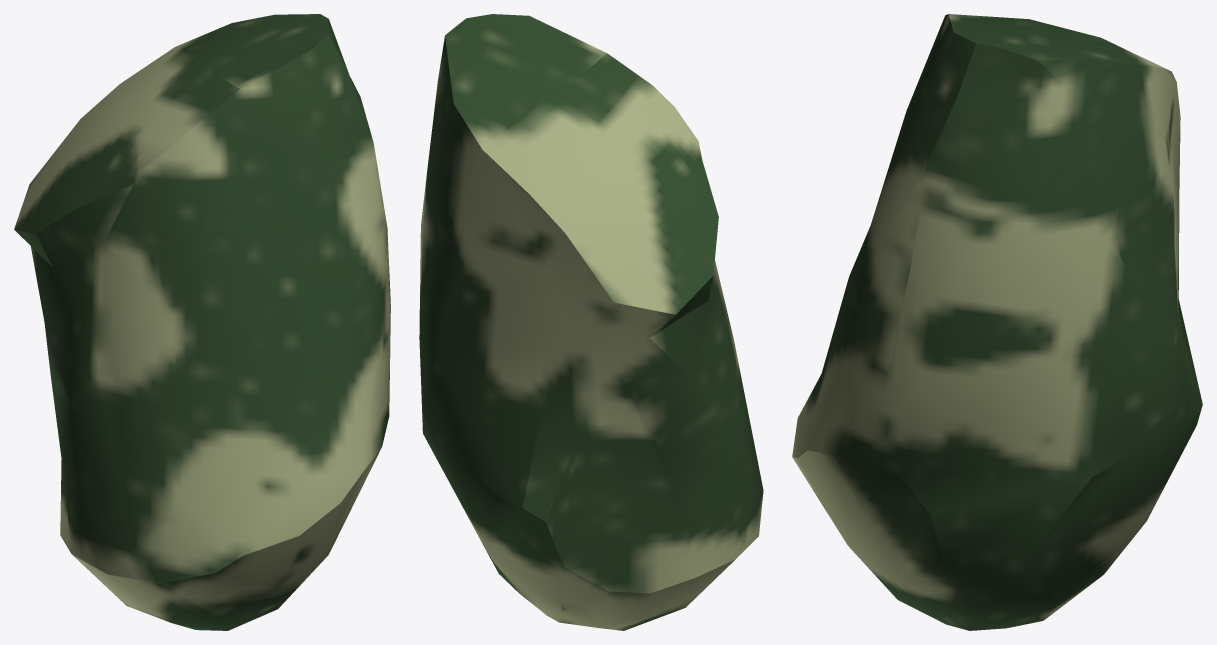
The model's file is link_leg_1_R_1.obj.
3 views of the same model, side by side, from view 1: azimuth 30°, elevation 25°; view 2: azimuth 150°, elevation 25°; view 3: azimuth 270°, elevation 25° (orthographic). The views are drawn at different scales.
Visible parts, largest first — view 1: link_leg_1_R_1; view 2: link_leg_1_R_1; view 3: link_leg_1_R_1.
Boxes of the visible parts, x1,y1,x2,y2 form: link_leg_1_R_1: [14, 14, 390, 630]; link_leg_1_R_1: [419, 14, 763, 630]; link_leg_1_R_1: [792, 14, 1202, 630].
Size of the model in its own units: 4.72 by 8.52 by 4.93.
